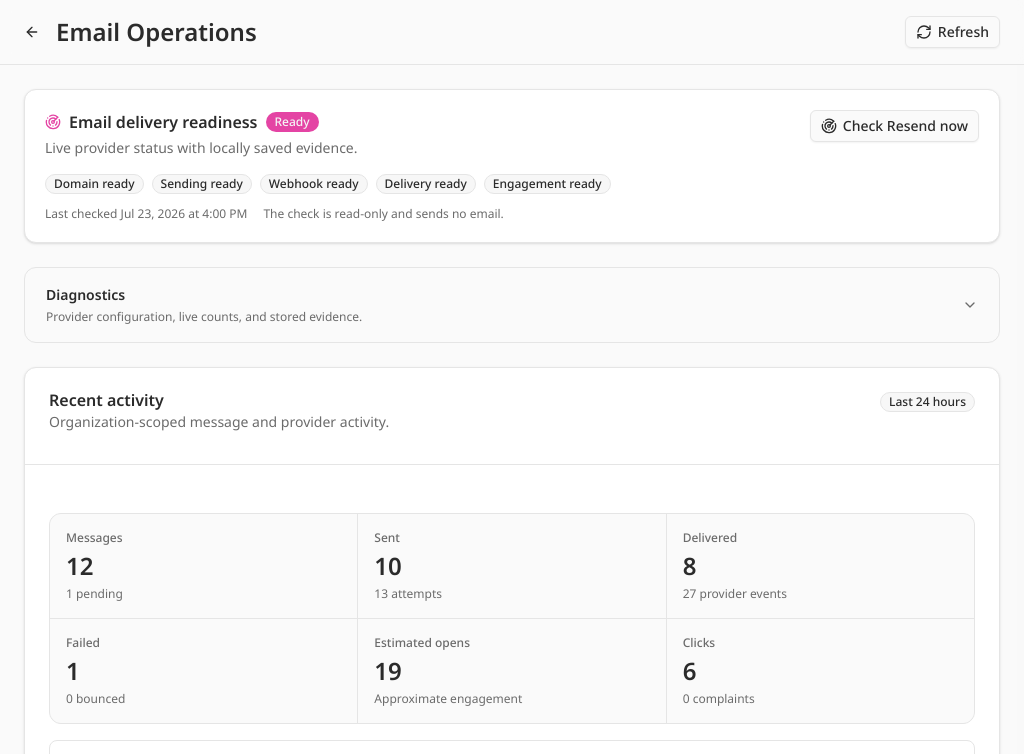
Test case: EmailOperationsDashboard › reveals detailed provider evidence only on request
This screenshot has width=1024, height=754.
Click the button "Diagnostics". click: (86, 294)
box: [25,268,999,342]
(page scrolled)
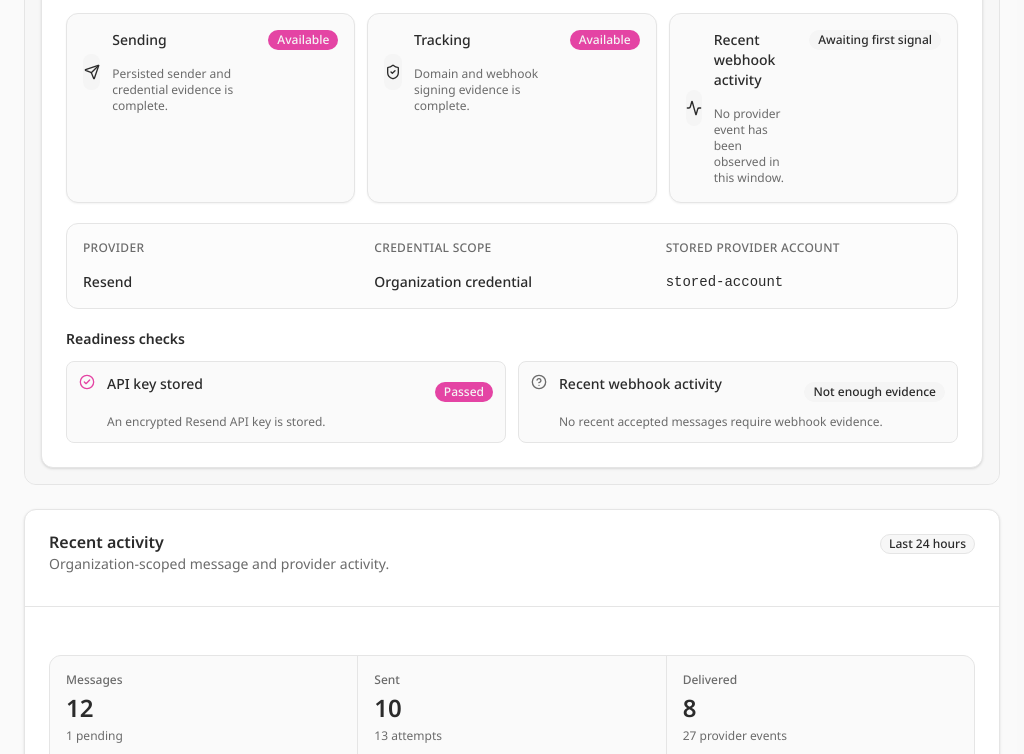
Expected: the text "stored-account" is shown, [666,274,783,290]
Expected: the text "API key stored" is shown, [107,374,203,394]
